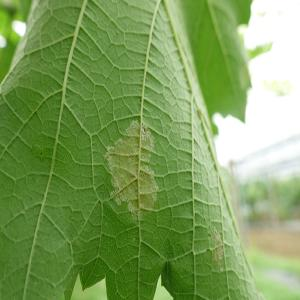Folha: (0, 0, 265, 299)
Fungo: (104, 118, 159, 220), (212, 226, 224, 272)
